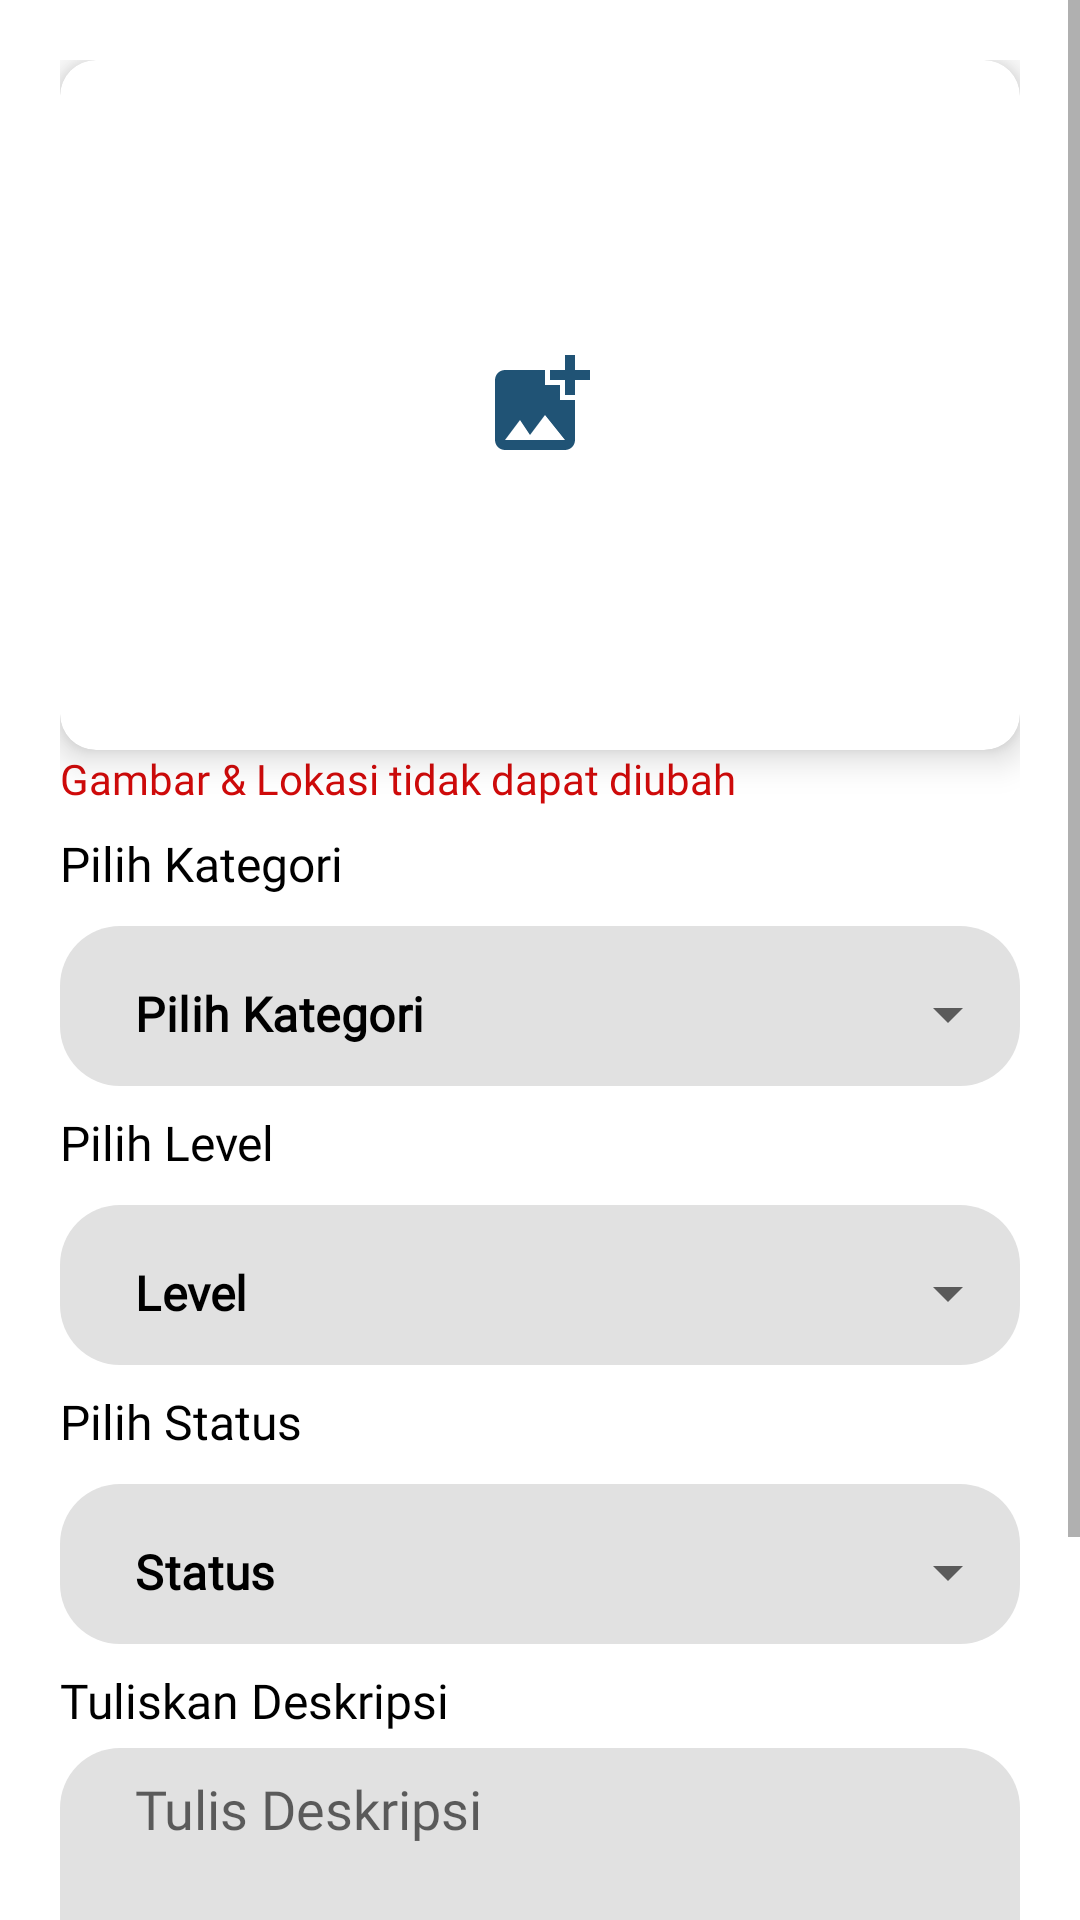

Where icons sit on this 1080x1920 app screen, as {"x1": x1, "y1": y1, "x2": x2, "y2": y2}:
add photo alternate: {"x1": 495, "y1": 355, "x2": 590, "y2": 450}
